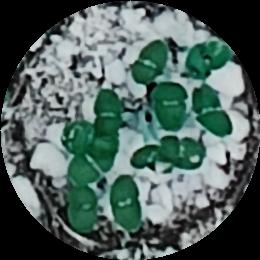Basil: (65, 140, 117, 184), (193, 87, 234, 141), (112, 174, 143, 229), (128, 39, 165, 85), (69, 180, 99, 233), (91, 89, 124, 136), (69, 123, 120, 152), (155, 85, 187, 131), (190, 41, 229, 77), (162, 137, 200, 168)
